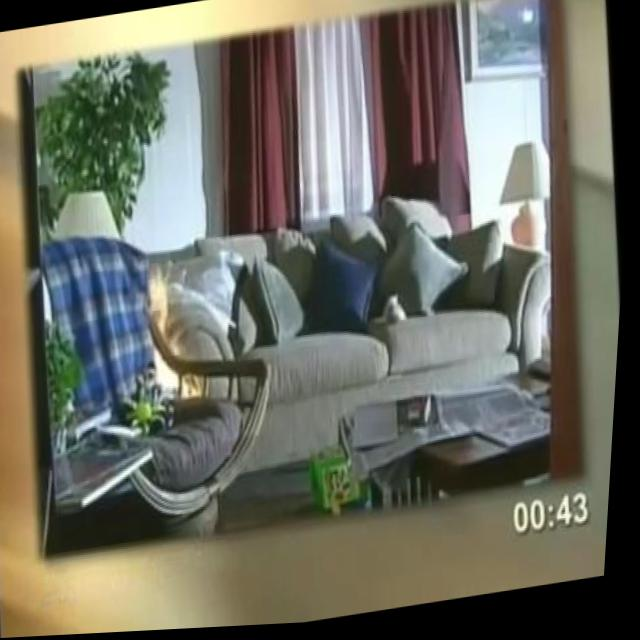fire: (143, 267, 221, 407)
